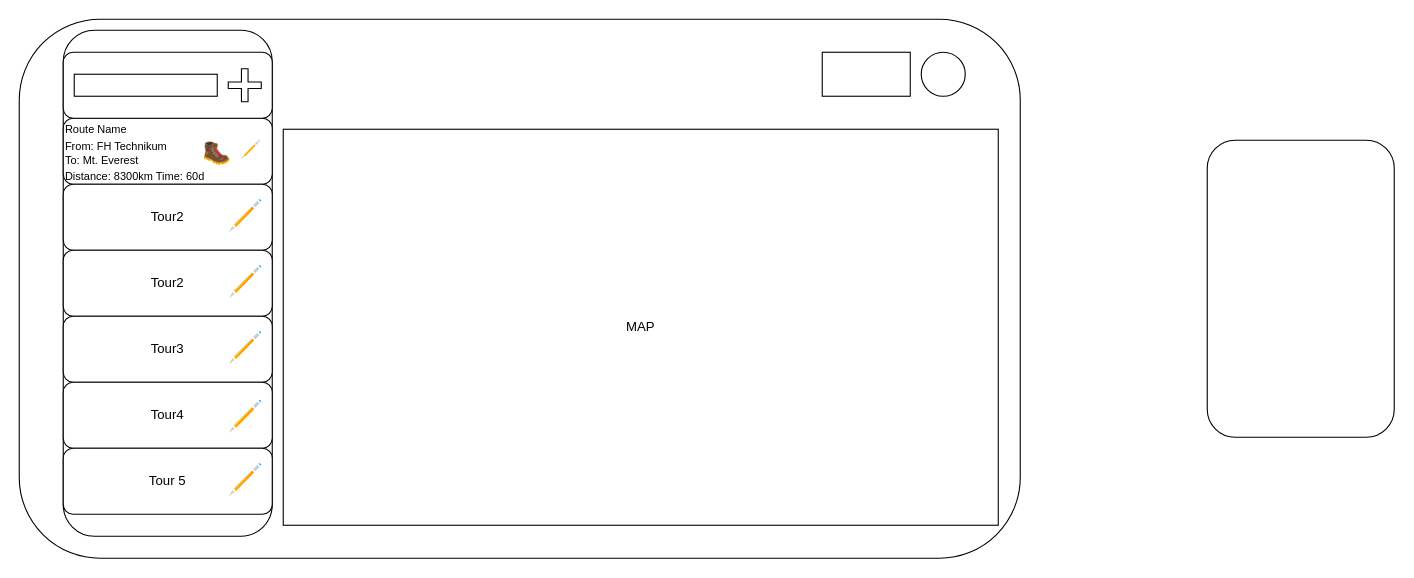
The diagram is 1414 pixels wide and 578 high, and some of its shapes have lost their labels. The shapes that lost their labels are listed below. From the top down, each one's centre as x and y in pixels, then its label:
At pixel 145 84: "Enter Route Name...".
At pixel 865 73: "Settings".
At pixel 942 73: "User".
